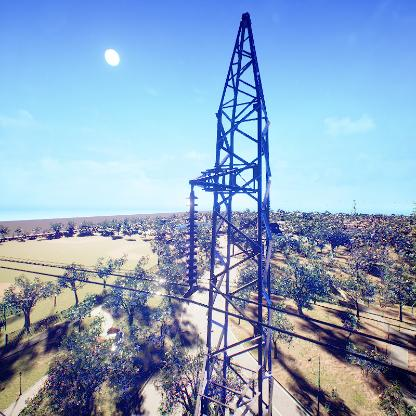insulator: (185, 193, 198, 287)
